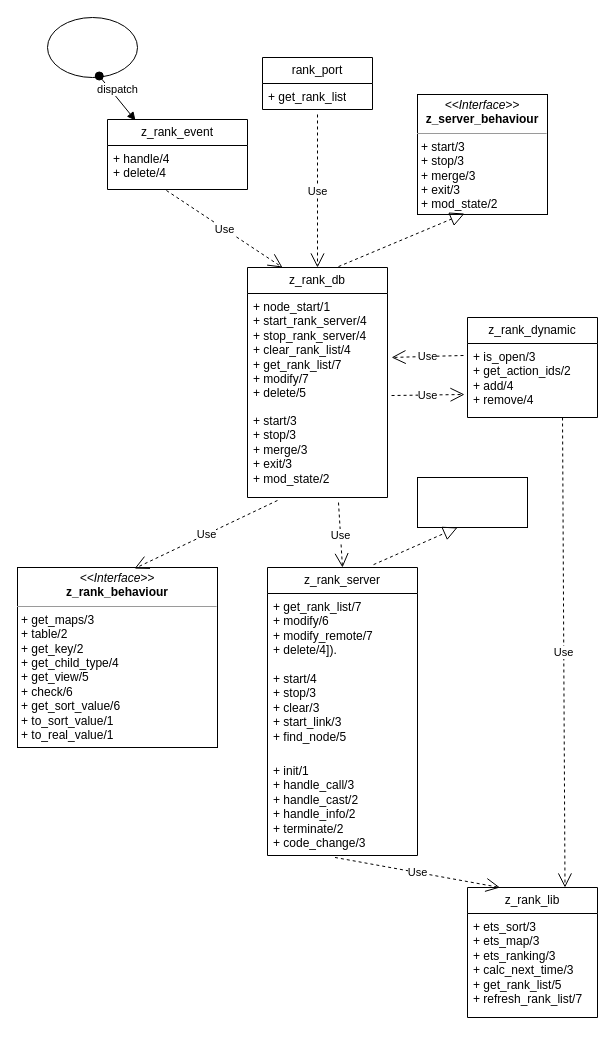
This 615x1038 diagram has some shape labels left out. Each missing label, with the centre of its shape:
Event: point 92,47
«interface» gen_server: point 472,502
